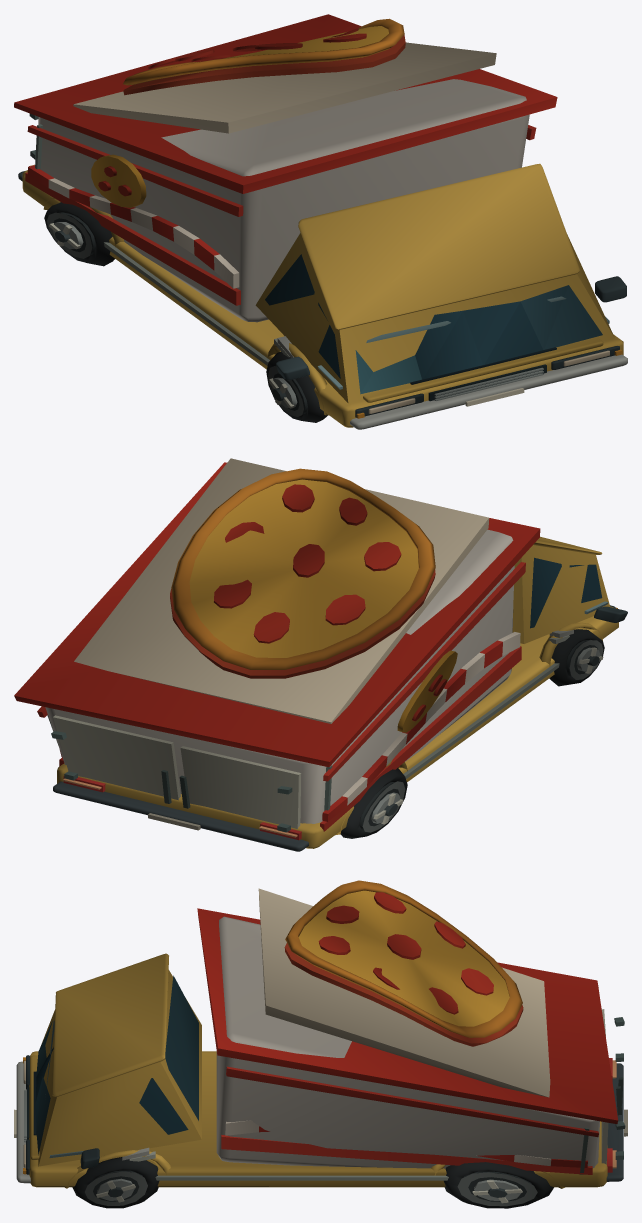
The model's file is pizza.glb.
The picture shows the model from 3 angles, top to bottom: view 1: azimuth 30°, elevation 25°; view 2: azimuth 150°, elevation 25°; view 3: azimuth 270°, elevation 25°; orthographic projection. The views are drawn at different scales.
Visible parts, largest first — view 1: pizza_body; view 2: pizza_body; view 3: pizza_body.
Boxes of the visible parts, left/top/right/bottom form: pizza_body: left=14, top=14, right=627, bottom=429; pizza_body: left=14, top=458, right=627, bottom=851; pizza_body: left=14, top=880, right=627, bottom=1208.
Size of the model in its own units: 2.48 by 1.72 by 4.23.
